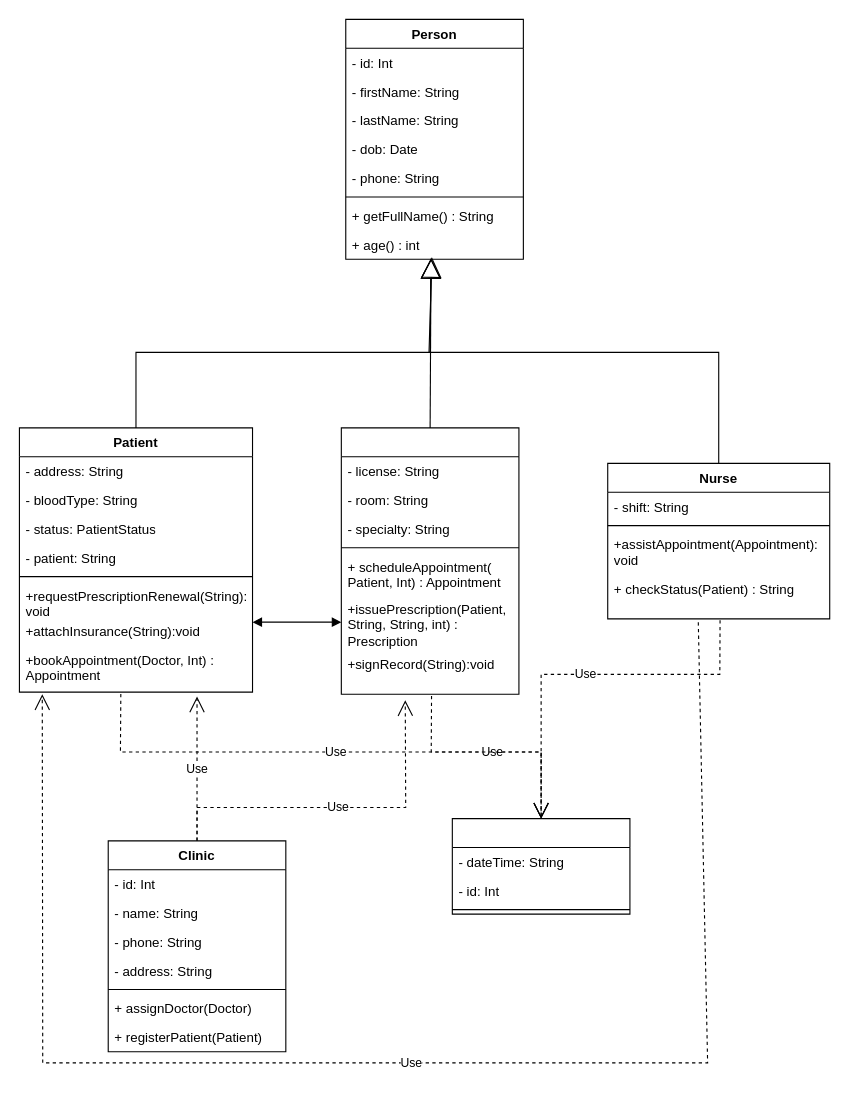
This 849x1098 diagram has some shape labels left out. The box of each missing label's shape, as (x1, y1, x2, y2) in pixels:
Appointment: (451, 818, 630, 914)
Doctor: (340, 427, 519, 694)
